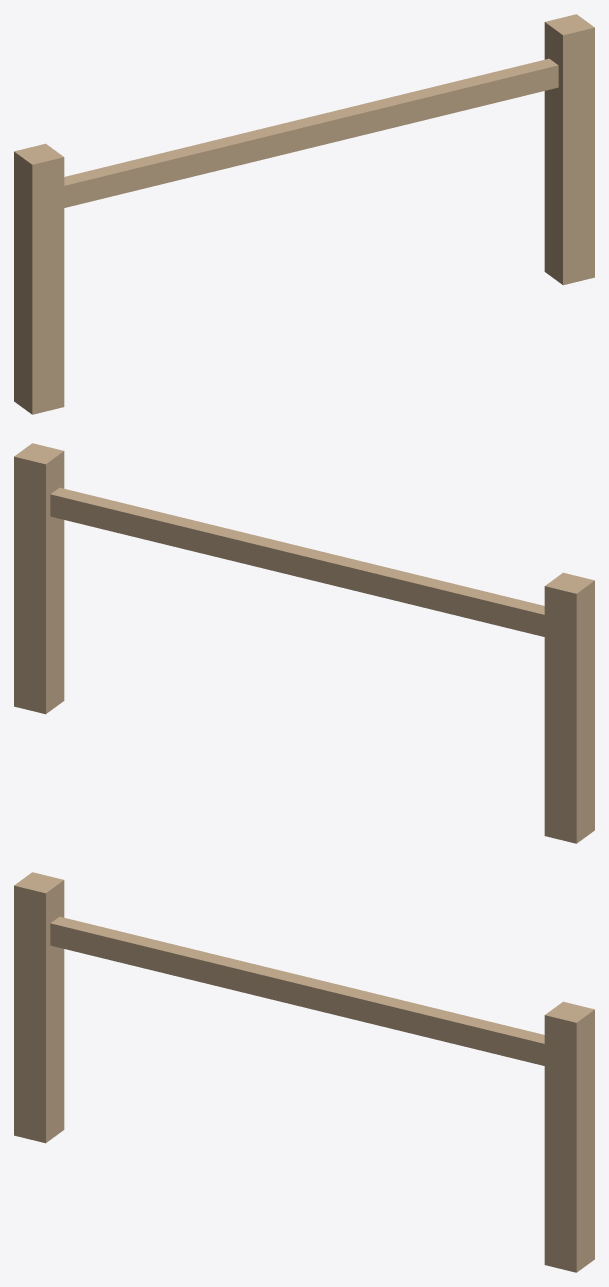
File: fence.glb
The picture shows the model from 3 angles, top to bottom: view 1: azimuth 30°, elevation 25°; view 2: azimuth 150°, elevation 25°; view 3: azimuth 330°, elevation 25°; orthographic projection.
Visible parts, largest first — view 1: rail_top, post_l, post_r; view 2: rail_top, post_l, post_r; view 3: rail_top, post_r, post_l.
Part boxes in pixels (x1,y1,x2,y2): rail_top: (64,58,558,207); post_l: (14,143,64,414); post_r: (544,14,594,285); rail_top: (50,487,544,636); post_l: (544,572,594,843); post_r: (14,443,64,714); rail_top: (50,916,544,1065); post_r: (544,1001,594,1272); post_l: (14,872,64,1143).
Size of the model in its own units: 2.12 by 0.9 by 0.12.
